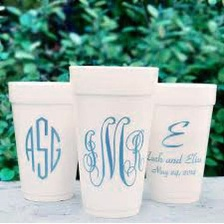paper_cup: (63, 59, 163, 222), (134, 76, 220, 205), (3, 75, 87, 206)
